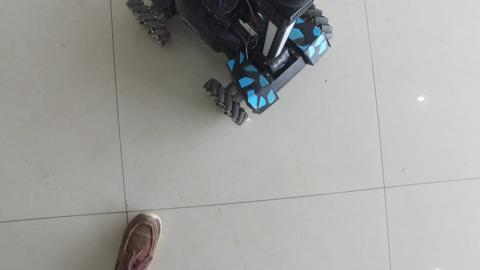chariot: (116, 2, 337, 123)
